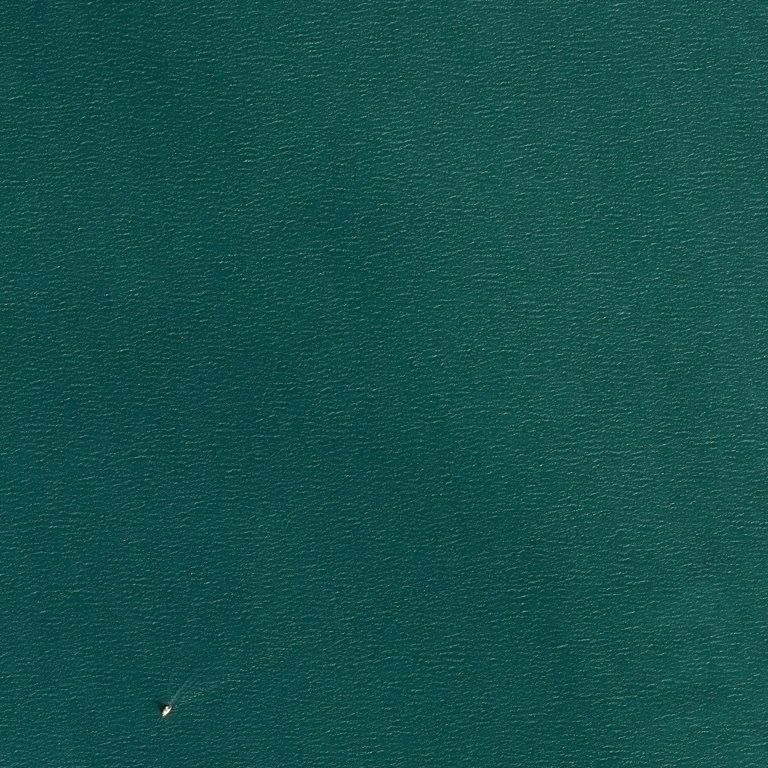ship: (157, 708, 161, 714), (162, 714, 165, 717), (166, 704, 168, 706), (0, 690, 1, 693)
